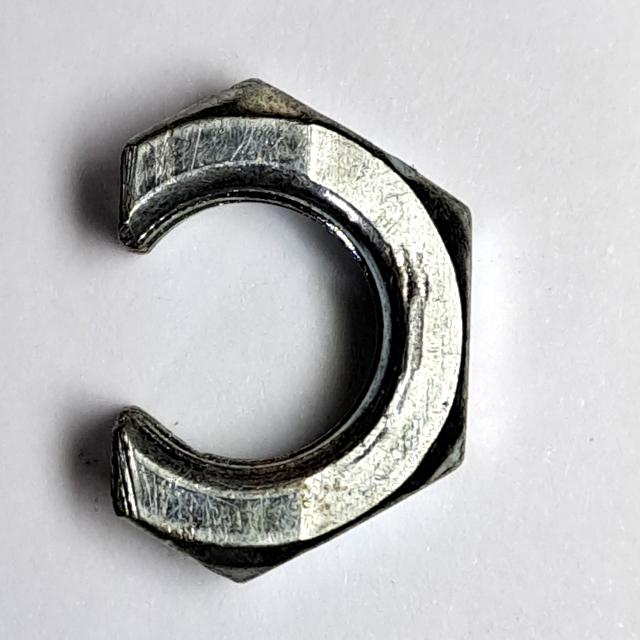Fracture: (96, 59, 486, 601)
